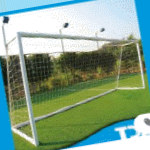goals: (4, 30, 146, 144)
